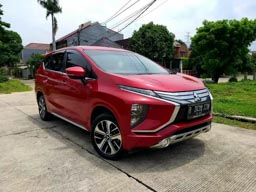plat: (187, 102, 211, 118)
